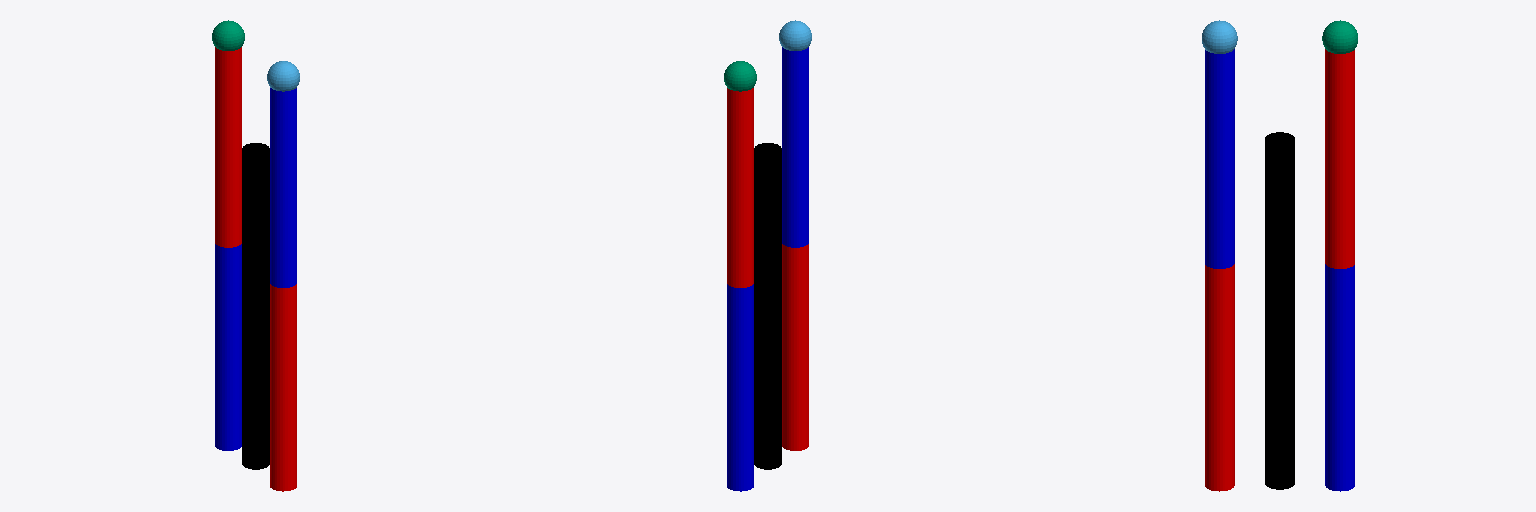
robot.urdf — five_link_walker:
<?xml version="1.0" ?>
<!-- =================================================================================== -->
<!-- |    This document was autogenerated by xacro from five_link_walker.xacro         | -->
<!-- |    EDITING THIS FILE BY HAND IS NOT RECOMMENDED                                 | -->
<!-- =================================================================================== -->
<robot name="five_link_walker" xmlns:xacro="http://ros.org/wiki/xacro">
 <link name="world" />
 <link name="base_link" />
 <link name="base_link2" />
 <link name="base_link3" />
  <link name="torso">
    <inertial>
      <origin xyz="0 0 0.24" rpy="0 0 0"/>
      <mass value="13"/>
      <inertia ixx="0" ixy="0" ixz="0" iyy="0.1940" iyz="0" izz="0"/>
    </inertial>
    <visual>
      <origin xyz="0 0 0.315"/>
      <geometry>
        <cylinder length="0.63" radius="0.025"/>
      </geometry>
      <material name="black">
        <color rgba="0 0 0 1"/>
      </material>
    </visual>
  </link>
  <link name="right_thigh">
    <inertial>
      <origin xyz="0 0 0.11" rpy="0 0 0"/>
      <mass value="3.4261"/>
      <inertia ixx="0" ixy="0" ixz="0" iyy="0.0389" iyz="0" izz="0"/>
    </inertial>
    <visual>
      <origin xyz="0 0 0.2"/>
      <geometry>
        <cylinder length="0.4064" radius="0.025"/>
      </geometry>
      <material name="blue">
        <color rgba="0 0 1 1"/>
      </material>
    </visual>
  </link>
  <link name="left_thigh">
    <inertial>
      <origin xyz="0 0 0.11" rpy="0 0 0"/>
      <mass value="3.4261"/>
      <inertia ixx="0" ixy="0" ixz="0" iyy="0.0389" iyz="0" izz="0"/>
    </inertial>
    <visual>
      <origin xyz="0 0 0.2"/>
      <geometry>
        <cylinder length="0.4064" radius="0.025"/>
      </geometry>
      <material name="red">
        <color rgba="1 0 0 1"/>
      </material>
    </visual>
  </link>
  <link name="right_shin">
    <inertial>
      <origin xyz="0 0 0.24" rpy="0 0 0"/>
      <mass value="0.85216"/>
      <inertia ixx="0" ixy="0" ixz="0" iyy="0.019286025" iyz="0" izz="0"/>
    </inertial>
    <visual>
      <origin xyz="0 0 0.2"/>
      <geometry>
        <cylinder length="0.4064" radius="0.025"/>
      </geometry>
      <material name="blue">
        <color rgba="1 0 0 1"/>
      </material>
    </visual>
  </link>
  <link name="left_shin">
    <inertial>
      <origin xyz="0 0 0.24" rpy="0 0 0"/>
      <mass value="0.85216"/>
      <inertia ixx="0" ixy="0" ixz="0" iyy="0.019286025" iyz="0" izz="0"/>
    </inertial>
    <visual>
      <origin xyz="0 0 0.2"/>
      <geometry>
        <cylinder length="0.4064" radius="0.025"/>
      </geometry>
      <material name="red">
        <color rgba="0 0 1 1"/>
      </material>
    </visual>
  </link>

<!-- Toe -->
  <link name="left_toe">
    <contact>
      <friction_anchor/>
      <stiffness value="300000.0"/>
      <damping value="10000.0"/>
      <spinning_friction value="0.3"/>
      <lateral_friction value="3.0"/>
    </contact>
    <visual>
      <origin rpy="0 0 0" xyz="0 0 0"/>
      <geometry>
        <sphere radius="0.03"/>
      </geometry>
      <material name="darkgray"/>
    </visual>
    <collision>
      <origin rpy="0 0 0" xyz="0 0 0"/>
      <geometry>
        <sphere radius="0.03"/>
      </geometry>
    </collision>
    <inertial>
      <mass value="0.15"/>
      <inertia ixx="0.000025" ixy="0" ixz="0" iyy="0.000025" iyz="0" izz="0.000025"/>
    </inertial>
  </link>
  <joint name="jleft_toe" type="fixed">
    <parent link="left_shin"/>
    <child link="left_toe"/>
    <origin xyz="0 0 0.4064"/>
    <dynamics damping="0.0" friction="0.0"/>
  </joint>
<!-- Toe -->
  <link name="right_toe">
    <contact>
      <friction_anchor/>
      <stiffness value="300000.0"/>
      <damping value="10000.0"/>
      <spinning_friction value="0.3"/>
      <lateral_friction value="3.0"/>
    </contact>
    <visual>
      <origin rpy="0 0 0" xyz="0 0 0"/>
      <geometry>
        <sphere radius="0.03"/>
      </geometry>
      <material name="darkgray"/>
    </visual>
    <collision>
      <origin rpy="0 0 0" xyz="0 0 0"/>
      <geometry>
        <sphere radius="0.03"/>
      </geometry>
    </collision>
    <inertial>
      <mass value="0.15"/>
      <inertia ixx="0.000025" ixy="0" ixz="0" iyy="0.000025" iyz="0" izz="0.000025"/>
    </inertial>
  </link>
  <joint name="jright_toe" type="fixed">
    <parent link="right_shin"/>
    <child link="right_toe"/>
    <origin xyz="0 0 0.4064"/>
    <dynamics damping="0.0" friction="0.0"/>
  </joint>

  <joint name="q2_left" type="continuous">
    <origin xyz="0 0 0.4064" rpy="0 0 0"/>
    <axis xyz="0 1 0"/>
    <parent link="left_thigh"/>
    <child link="left_shin"/>
    <dynamics>
    <friction>10</friction>
    <damping>100</damping>
    <motorInertia>33200</motorInertia>
    </dynamics>
  </joint>
  <joint name="q1_right" type="continuous">
    <origin xyz="0 0.1 0" rpy="0 0 0"/>
    <axis xyz="0 1 0"/>
    <parent link="torso"/>
    <child link="right_thigh"/>
    <dynamics>
    <friction>10</friction>
    <damping>100</damping>
    </dynamics>
  </joint>
  <joint name="q1_left" type="continuous">
    <origin xyz="0 -0.1 0" rpy="0 0 0"/>
    <axis xyz="0 1 0"/>
    <parent link="torso"/>
    <child link="left_thigh"/>
    <dynamics>
    <friction>10</friction>
    <damping>100</damping>
    </dynamics>
  </joint>
   <joint name="q2_right" type="continuous">
    <origin xyz="0 0 0.4064" rpy="0 0 0"/>
    <axis xyz="0 1 0"/>
    <parent link="right_thigh"/>
    <child link="right_shin"/>
    <dynamics>
    <friction>10</friction>
    <damping>100</damping>
    </dynamics>
  </joint>

  <joint name="base_link_to_base_link2" type="revolute">
    <parent link="base_link"/>
    <child link="base_link2"/>
    <!-- <axis xyz="0 0 1"/>  -->
    <axis xyz="0 1 0"/>
    <limit effort="1000.0" lower="-1" upper="1" velocity="0.5"/>
    <origin rpy="0 0 0" xyz="0 0.0 0"/>
  </joint>

  <joint name="base_link2_to_base_link3" type="prismatic">
    <parent link="base_link2"/>
    <child link="base_link3"/>
    <!-- <axis xyz="0 1 0"/>  -->
    <axis xyz="0 0 1"/>
    <origin rpy="0 0 0" xyz="0 0.0 0"/>
  </joint>

  <joint name="base_link3_to_torso" type="prismatic">
    <parent link="base_link3"/>
    <child link="torso"/>
    <axis xyz="1 0 0"/>
    <origin rpy="0 0 0" xyz="0 0.0 0"/>
  </joint>

 <joint name="world_joint" type="fixed">
  <parent link="world"/>
   <child link="base_link"/>
  <origin rpy="0 0 0" xyz="0 0.0 0"/>
  </joint>

  
  
<transmission name="q1_right_trans" type="pr2_mechanism_model/SimpleTransmission">
  <joint name="q1_right"/>
  <actuator name="q1_right_motor"/>
  <mechanicalReduction>50</mechanicalReduction>
    <motorInertia>0.000332</motorInertia>
</transmission>

<transmission name="q2_right_trans" type="pr2_mechanism_model/SimpleTransmission">
  <joint name="q2_right"/>
  <actuator name="q2_right_motor"/>
  <mechanicalReduction>50</mechanicalReduction>
    <motorInertia>0.000332</motorInertia>
</transmission>

<transmission name="q1_left_trans" type="pr2_mechanism_model/SimpleTransmission">
  <joint name="q1_left"/>
  <actuator name="q1_left_motor"/>
  <mechanicalReduction>50</mechanicalReduction>
    <motorInertia>0.000332</motorInertia>
</transmission>

<transmission name="q2_left_trans" type="pr2_mechanism_model/SimpleTransmission">
  <joint name="q2_left"/>
  <actuator name="q2_left_motor"/>
  <mechanicalReduction>50</mechanicalReduction>
    <motorInertia>0.000332</motorInertia>
</transmission>

</robot>

--- What the picture shows (computed from the rendered views, not written in the file) ---
3 views of the same robot in one strip: view 1: azimuth 30°, elevation 25°; view 2: azimuth 150°, elevation 25°; view 3: azimuth 270°, elevation 25° (orthographic).
Robot: five_link_walker — 11 links, 10 joints (1 revolute, 4 continuous, 2 prismatic, 3 fixed); root link world; default pose: all joints at 0.
Visible links, largest first — view 1: torso, left_thigh, right_thigh, right_shin, left_shin, left_toe, right_toe; view 2: torso, right_thigh, left_thigh, left_shin, right_shin, right_toe, left_toe; view 3: torso, right_thigh, left_thigh, right_shin, left_shin, left_toe, right_toe.
Link boxes in pixels (x1=…): torso: x1=242, y1=143, x2=269, y2=469; left_thigh: x1=270, y1=284, x2=296, y2=491; right_thigh: x1=215, y1=244, x2=241, y2=450; right_shin: x1=215, y1=47, x2=241, y2=247; left_shin: x1=270, y1=88, x2=296, y2=287; left_toe: x1=267, y1=61, x2=299, y2=91; right_toe: x1=212, y1=20, x2=244, y2=50; torso: x1=754, y1=143, x2=781, y2=469; right_thigh: x1=727, y1=284, x2=753, y2=491; left_thigh: x1=782, y1=244, x2=808, y2=450; left_shin: x1=782, y1=47, x2=808, y2=247; right_shin: x1=727, y1=88, x2=753, y2=287; right_toe: x1=724, y1=61, x2=756, y2=91; left_toe: x1=779, y1=20, x2=811, y2=50; torso: x1=1265, y1=132, x2=1294, y2=489; right_thigh: x1=1325, y1=264, x2=1354, y2=491; left_thigh: x1=1205, y1=264, x2=1234, y2=491; right_shin: x1=1325, y1=49, x2=1354, y2=268; left_shin: x1=1205, y1=49, x2=1234, y2=268; left_toe: x1=1202, y1=20, x2=1237, y2=53; right_toe: x1=1322, y1=20, x2=1357, y2=53.
Bounding box of the posed robot: 0.06 × 0.26 × 0.846 m (x, y, z).
Geometry: primitives only (box / cylinder / sphere), no mesh files.